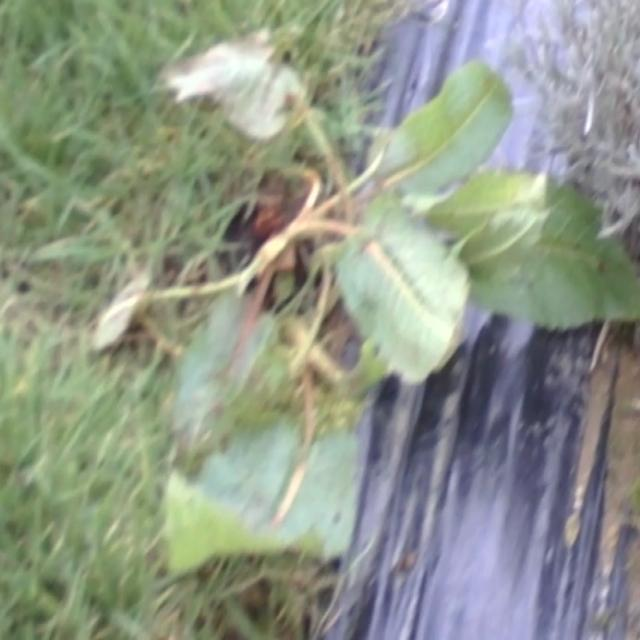organic waste: (86, 16, 640, 640)
